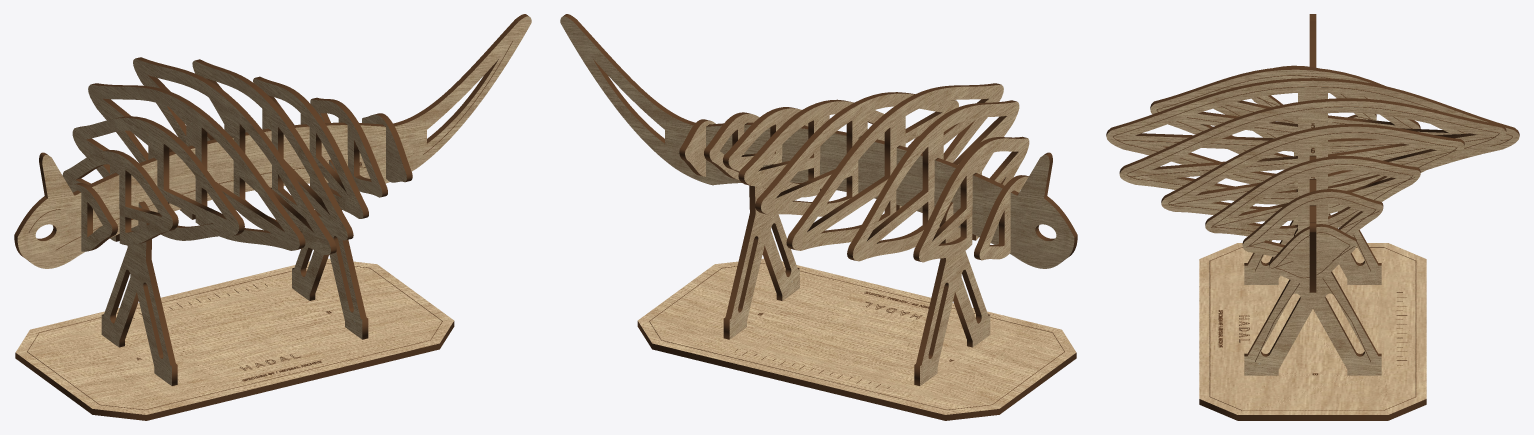
File: hadal.glb
The picture shows the model from 3 angles, left to right: view 1: azimuth 30°, elevation 25°; view 2: azimuth 150°, elevation 25°; view 3: azimuth 270°, elevation 25°; orthographic projection. The views are drawn at different scales.
Visible parts, largest first — view 1: body12, body0, body4, body5, body3, body10, body6, body2, body7, body11, body8, body1 (+2 smaller); view 2: body12, body0, body4, body3, body5, body10, body2, body11, body6, body1, body7, body8 (+2 smaller); view 3: body12, body5, body4, body6, body7, body11, body3, body8, body9, body10, body2, score12 (+6 smaller).
Part boxes in pixels (left/top/right/bottom): body12: left=15, top=258, right=454, bottom=420; body0: left=14, top=14, right=531, bottom=268; body4: left=88, top=83, right=305, bottom=250; body5: left=133, top=57, right=336, bottom=254; body3: left=72, top=116, right=244, bottom=240; body10: left=101, top=201, right=177, bottom=385; body6: left=192, top=59, right=353, bottom=240; body2: left=62, top=150, right=178, bottom=245; body7: left=253, top=76, right=368, bottom=218; body11: left=292, top=159, right=368, bottom=339; body8: left=310, top=97, right=387, bottom=197; body1: left=69, top=183, right=117, bottom=251; body12: left=637, top=258, right=1076, bottom=420; body0: left=560, top=14, right=1077, bottom=268; body4: left=786, top=83, right=1003, bottom=250; body3: left=847, top=100, right=1019, bottom=261; body5: left=755, top=92, right=958, bottom=216; body10: left=914, top=202, right=990, bottom=385; body2: left=913, top=136, right=1029, bottom=262; body11: left=723, top=166, right=799, bottom=339; body6: left=738, top=99, right=884, bottom=197; body1: left=974, top=175, right=1028, bottom=260; body7: left=723, top=107, right=808, bottom=177; body8: left=704, top=112, right=759, bottom=179; body12: left=1199, top=243, right=1426, bottom=420; body5: left=1119, top=98, right=1506, bottom=204; body4: left=1106, top=78, right=1519, bottom=183; body6: left=1161, top=124, right=1464, bottom=221; body7: left=1205, top=155, right=1420, bottom=240; body11: left=1244, top=228, right=1381, bottom=375; body3: left=1150, top=67, right=1469, bottom=173; body8: left=1242, top=189, right=1383, bottom=257; body9: left=1269, top=224, right=1356, bottom=283; body10: left=1244, top=151, right=1381, bottom=284; body2: left=1213, top=65, right=1420, bottom=153; score12: left=1209, top=247, right=1416, bottom=410.
Size of the model in its own units: 0.27 by 0.1286 by 0.1926.
Materials: 3 (1 with a texture image).
